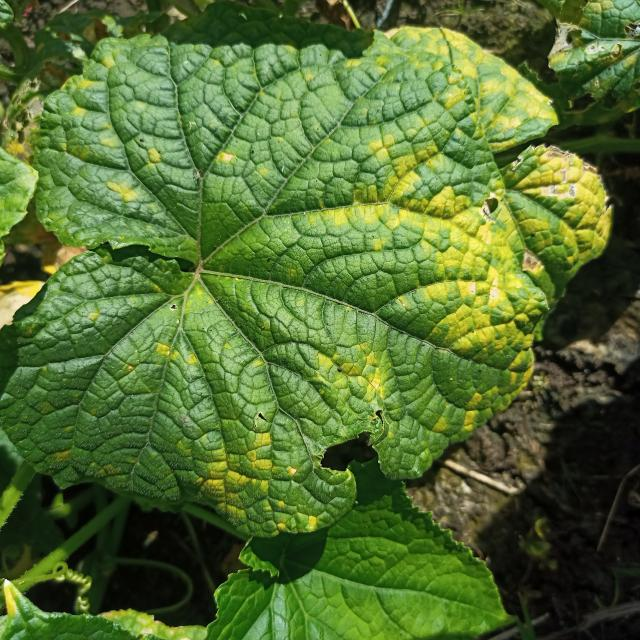disease_cucumber: (370, 41, 612, 440), (203, 337, 407, 526)
